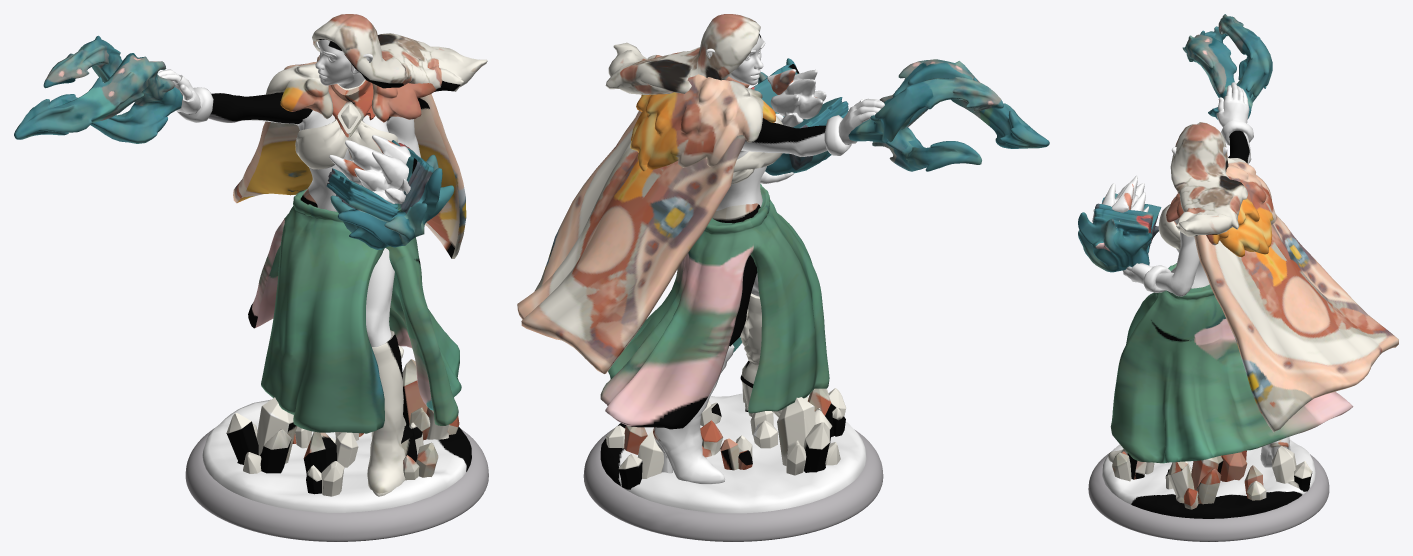
3 renders of one model, left to right at view 1: azimuth 30°, elevation 25°; view 2: azimuth 150°, elevation 25°; view 3: azimuth 270°, elevation 25°, orthographic. The views are drawn at different scales.
Visible parts, largest first — view 1: hf_4016653_5158624; view 2: hf_4016653_5158624; view 3: hf_4016653_5158624.
Boxes of the visible parts, bbox=[...] form: hf_4016653_5158624: bbox=[14, 14, 488, 541]; hf_4016653_5158624: bbox=[517, 14, 1049, 541]; hf_4016653_5158624: bbox=[1078, 14, 1398, 541].
Bounding box in the file's own units: 1.78 × 1.68 × 1.29.
